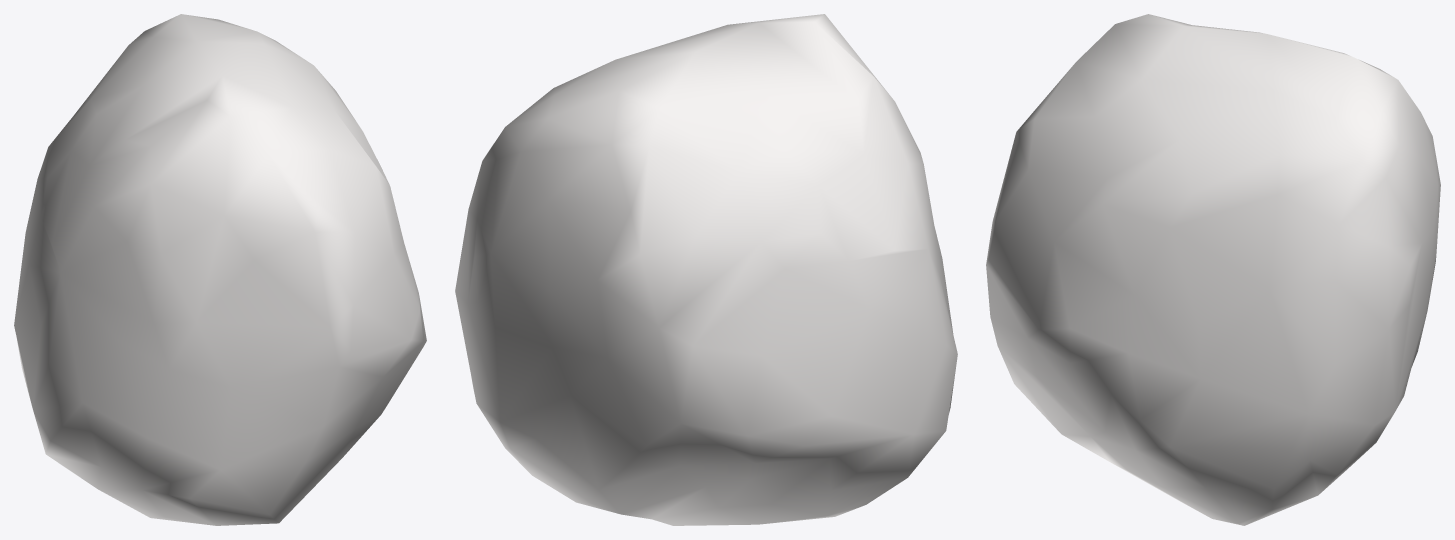
Rendered from Snow_004.fbx.
The picture shows the model from 3 angles, left to right: view 1: azimuth 30°, elevation 25°; view 2: azimuth 150°, elevation 25°; view 3: azimuth 270°, elevation 25°; orthographic projection. The views are drawn at different scales.
Visible parts, largest first — view 1: Snow_004; view 2: Snow_004; view 3: Snow_004.
Part boxes in pixels (x1,y1,x2,y2): Snow_004: (14, 14, 426, 525); Snow_004: (455, 14, 957, 525); Snow_004: (986, 14, 1440, 525).
Bounding box in the file's own units: 0.9359 × 1.07 × 0.9613.
